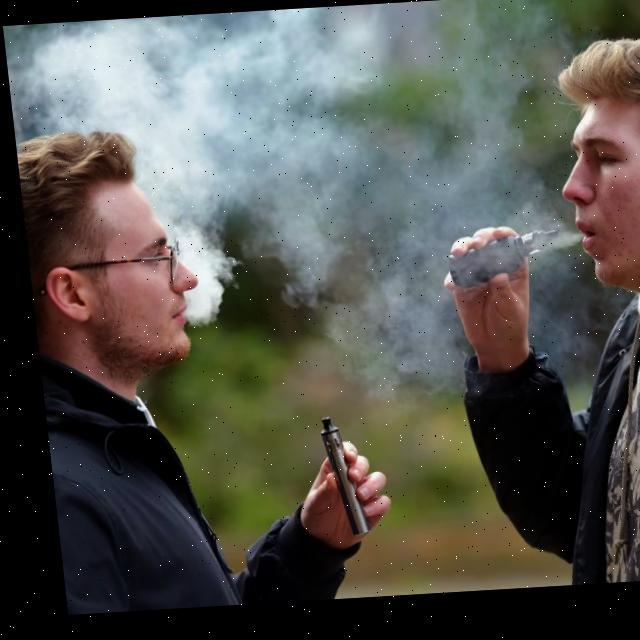vape: (440, 235, 558, 295), (310, 418, 358, 541)
